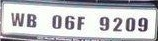character: (10, 12, 24, 26), (137, 17, 149, 32), (51, 14, 62, 30), (98, 16, 109, 31), (112, 16, 122, 32), (26, 13, 36, 28), (64, 15, 74, 30), (125, 17, 135, 32), (77, 15, 86, 30)
